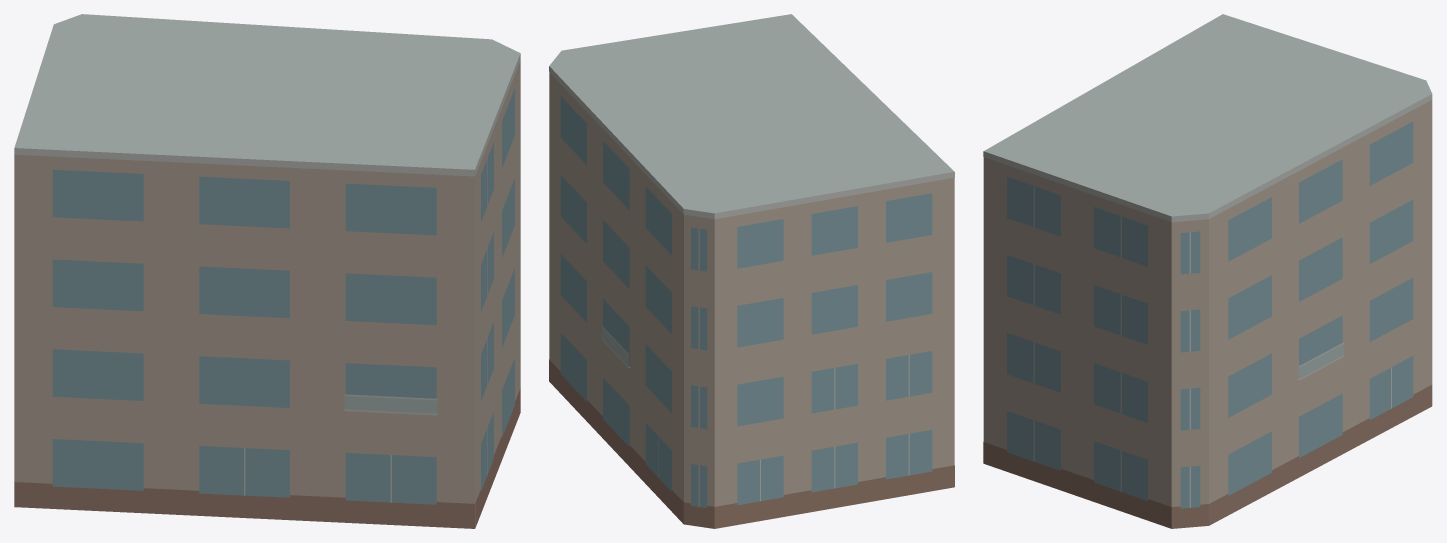
Rendered from survey-upis-32680862.glb.
3 views of the same model, side by side, from view 1: azimuth 30°, elevation 25°; view 2: azimuth 150°, elevation 25°; view 3: azimuth 270°, elevation 25° (orthographic). The views are drawn at different scales.
Parts seen in each view (by area): view 1: survey-upis-32680862.tmp; view 2: survey-upis-32680862.tmp; view 3: survey-upis-32680862.tmp.
Boxes of the visible parts, bbox=[...] form: survey-upis-32680862.tmp: bbox=[14, 14, 520, 528]; survey-upis-32680862.tmp: bbox=[549, 14, 954, 528]; survey-upis-32680862.tmp: bbox=[983, 14, 1432, 528].
Bounding box in the file's own units: 18.36 × 13.2 × 17.2.
